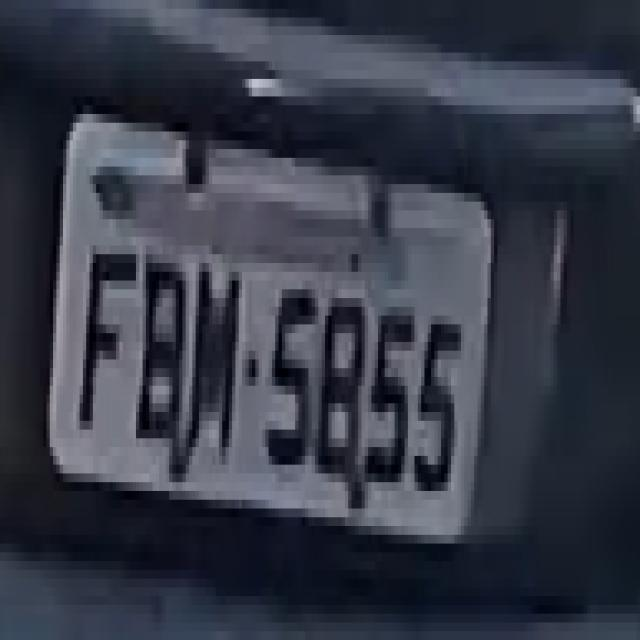Placa_mercosul_carro: (47, 108, 491, 541)
